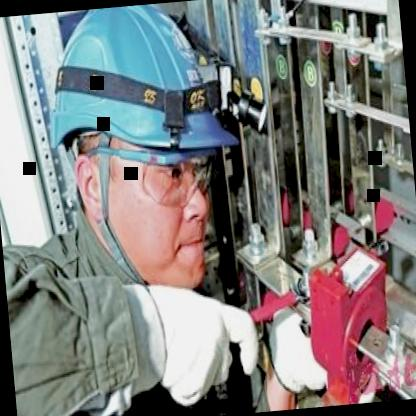helmet: (34, 0, 234, 327)
